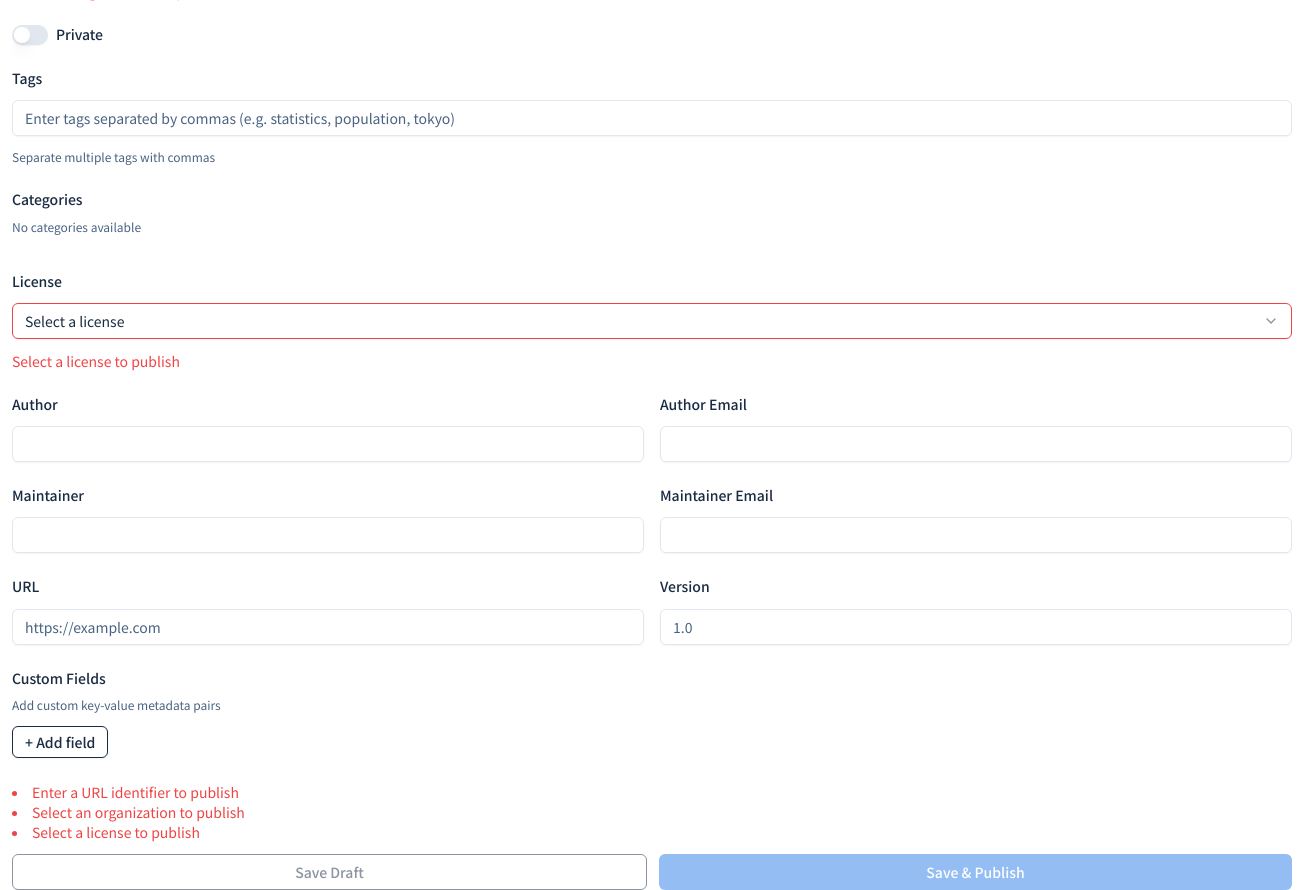
Scenario: DatasetForm (draft flows) › edit mode (draft) — dirty gating › should enable Save Draft when only extras change, ignoring empty rows
(page scrolled)
Click the button "+ Add field". click: [60, 742]
box: [12,726,108,758]
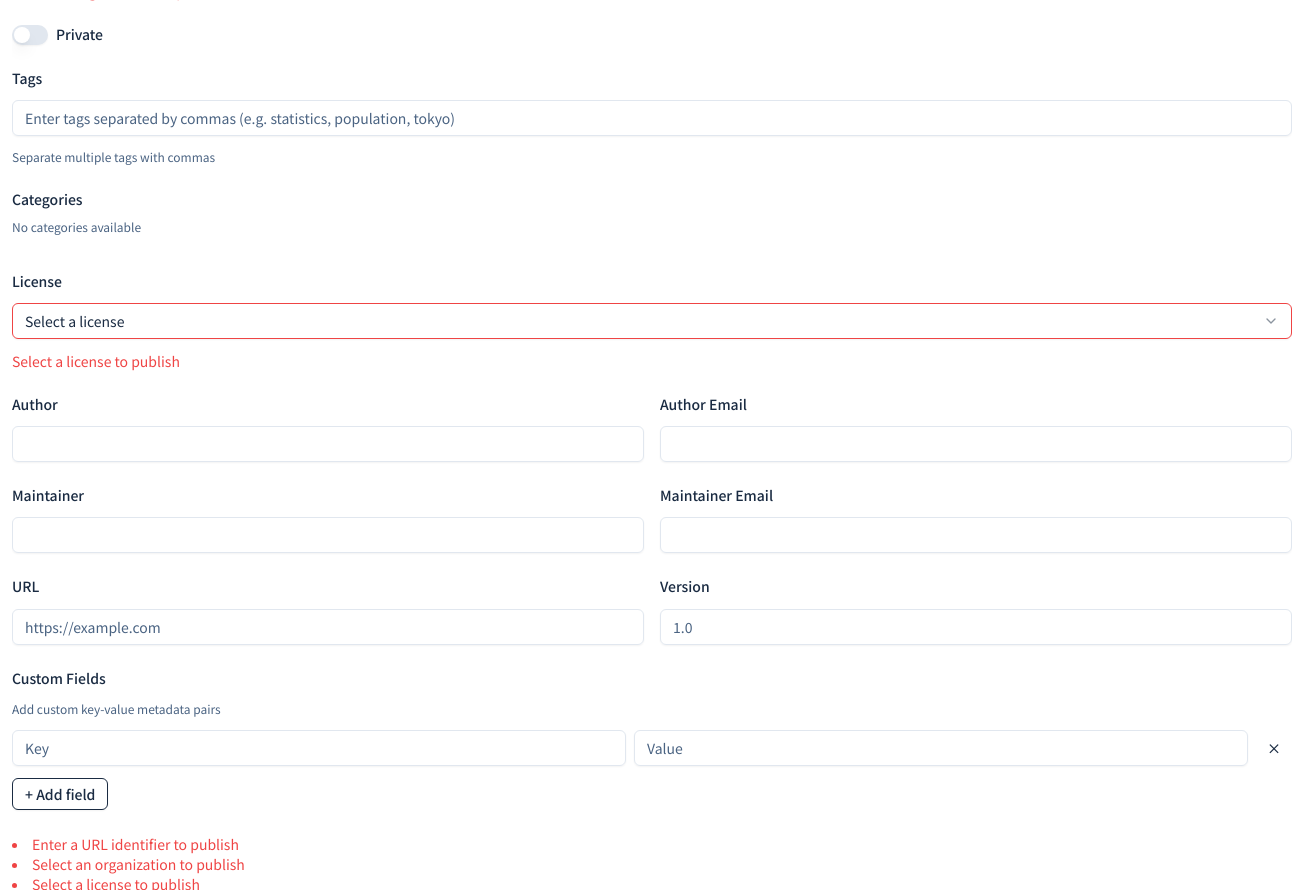
Type "source" into the field with placeholder "Key". click: [319, 748]
box: [12,730,626,766]
(page scrolled)
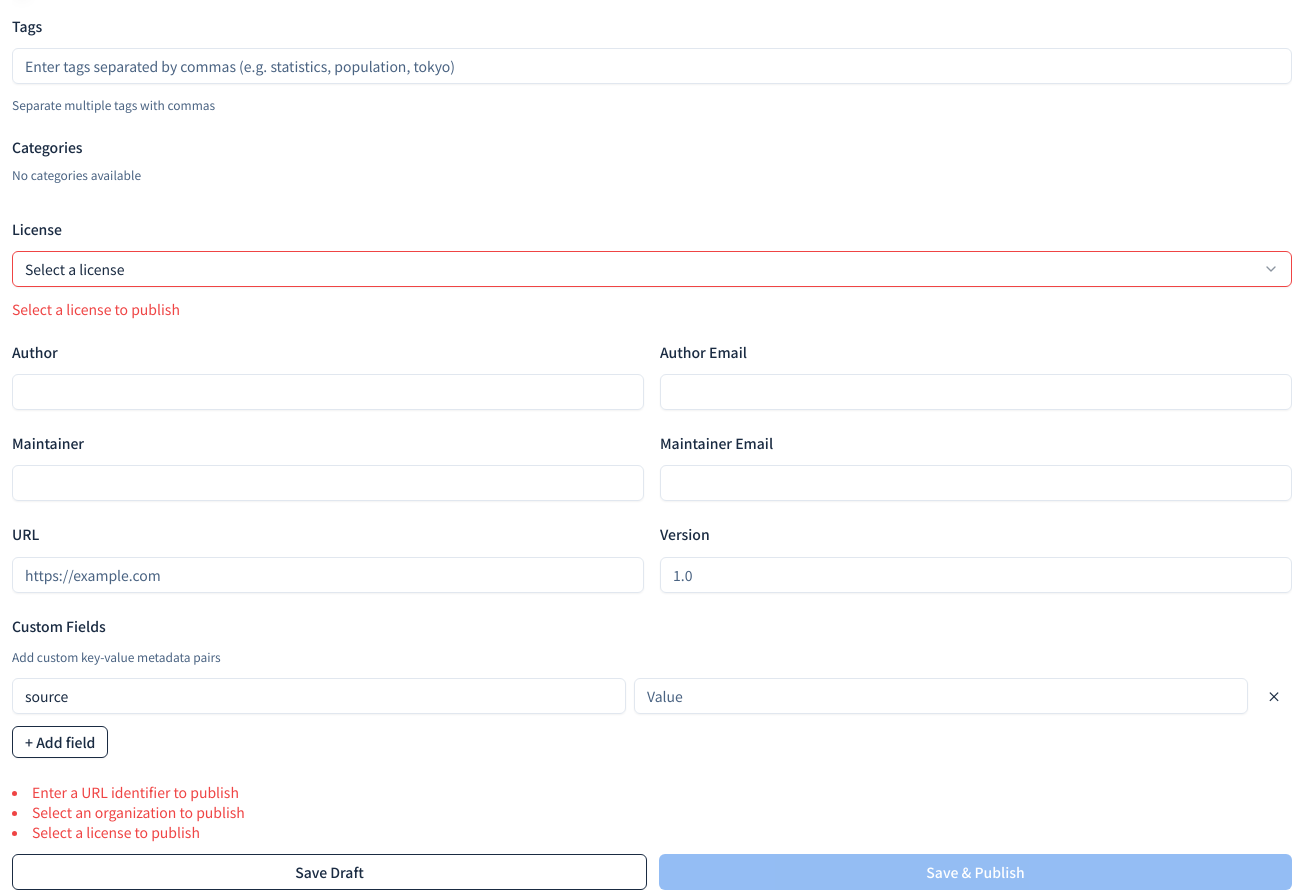
Expected: the button "Save Draft" is enabled, [12,854,647,889]
